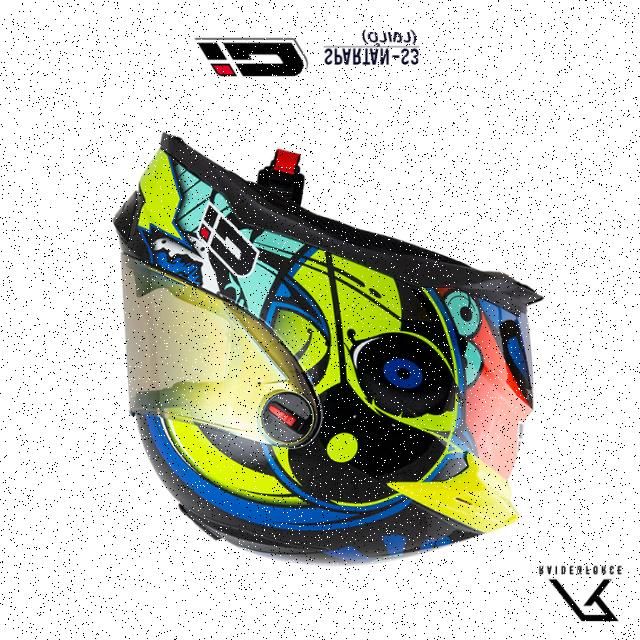Helmet: (114, 136, 540, 565)
